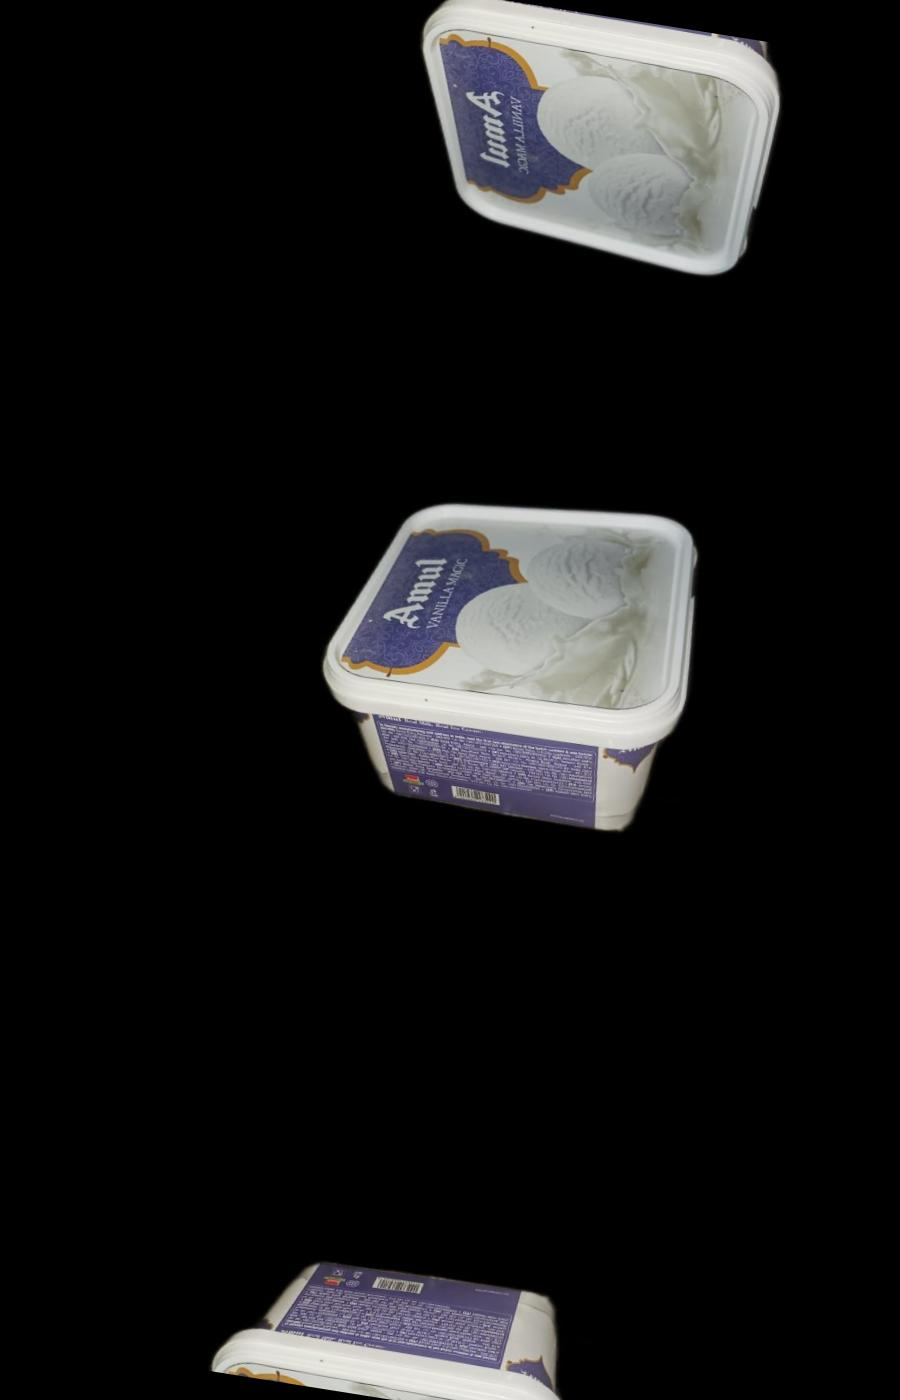Amul Ice Cream - Vanilla Magic 1 L Tub: (291, 463, 740, 850), (379, 0, 815, 287), (198, 1233, 617, 1400)
